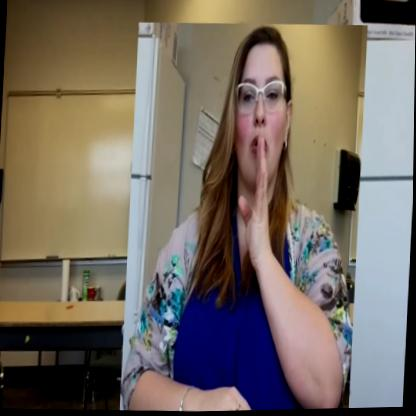Talk: (121, 19, 368, 414)
